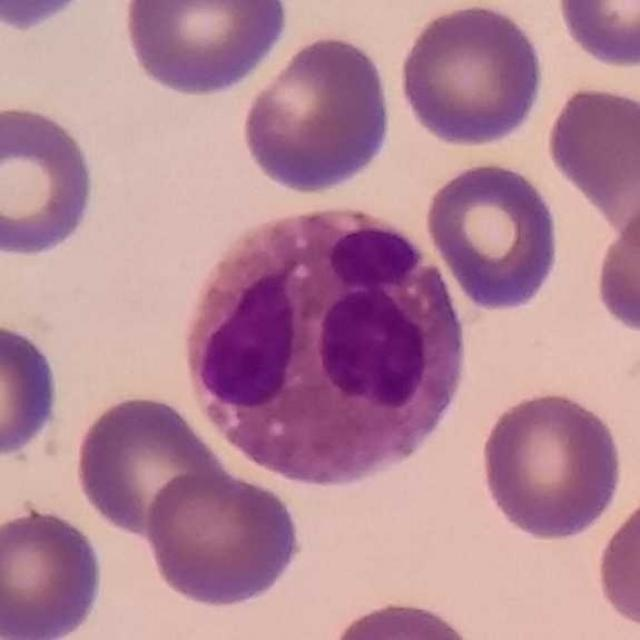Eosinophil: (177, 203, 466, 492)
RBC: (237, 30, 397, 197), (475, 386, 627, 543), (70, 390, 228, 541), (141, 466, 305, 610), (395, 1, 548, 150), (422, 157, 563, 314), (118, 0, 294, 100), (0, 99, 101, 260), (0, 502, 108, 640), (542, 80, 640, 212), (0, 315, 65, 464), (590, 483, 640, 634), (591, 190, 640, 340), (321, 595, 484, 640), (553, 0, 640, 71), (0, 0, 100, 35)
